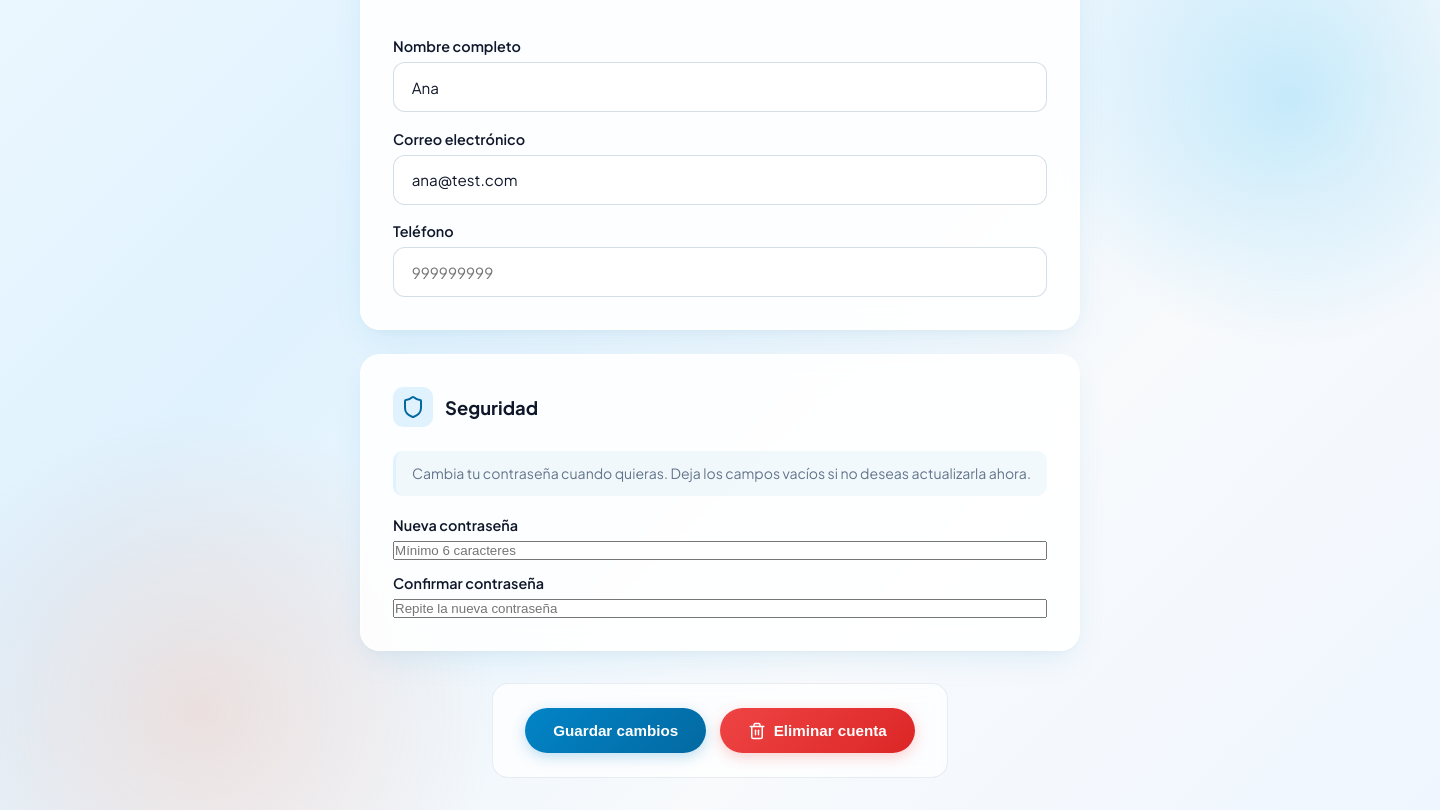
Scenario: Pruebas básicas de componentes › muestra un mensaje cuando las contraseñas no coinciden
(page scrolled)
Type "123456" into the password field labelled "Nueva contraseña" at (720, 551), box [393,541,1047,560]
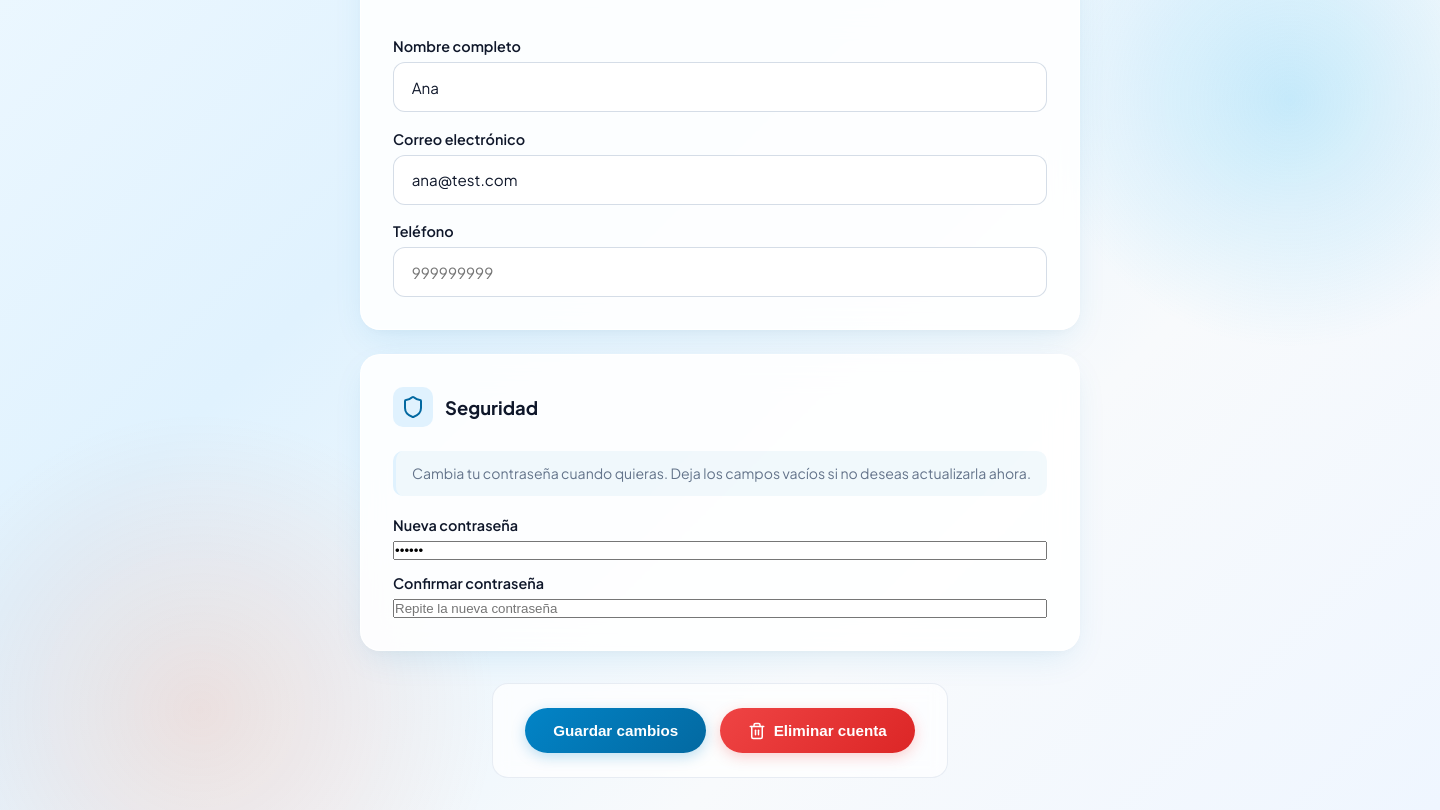
Type "654321" into the password field labelled "Confirmar contraseña" at (720, 609), box [393,599,1047,618]
(page scrolled)
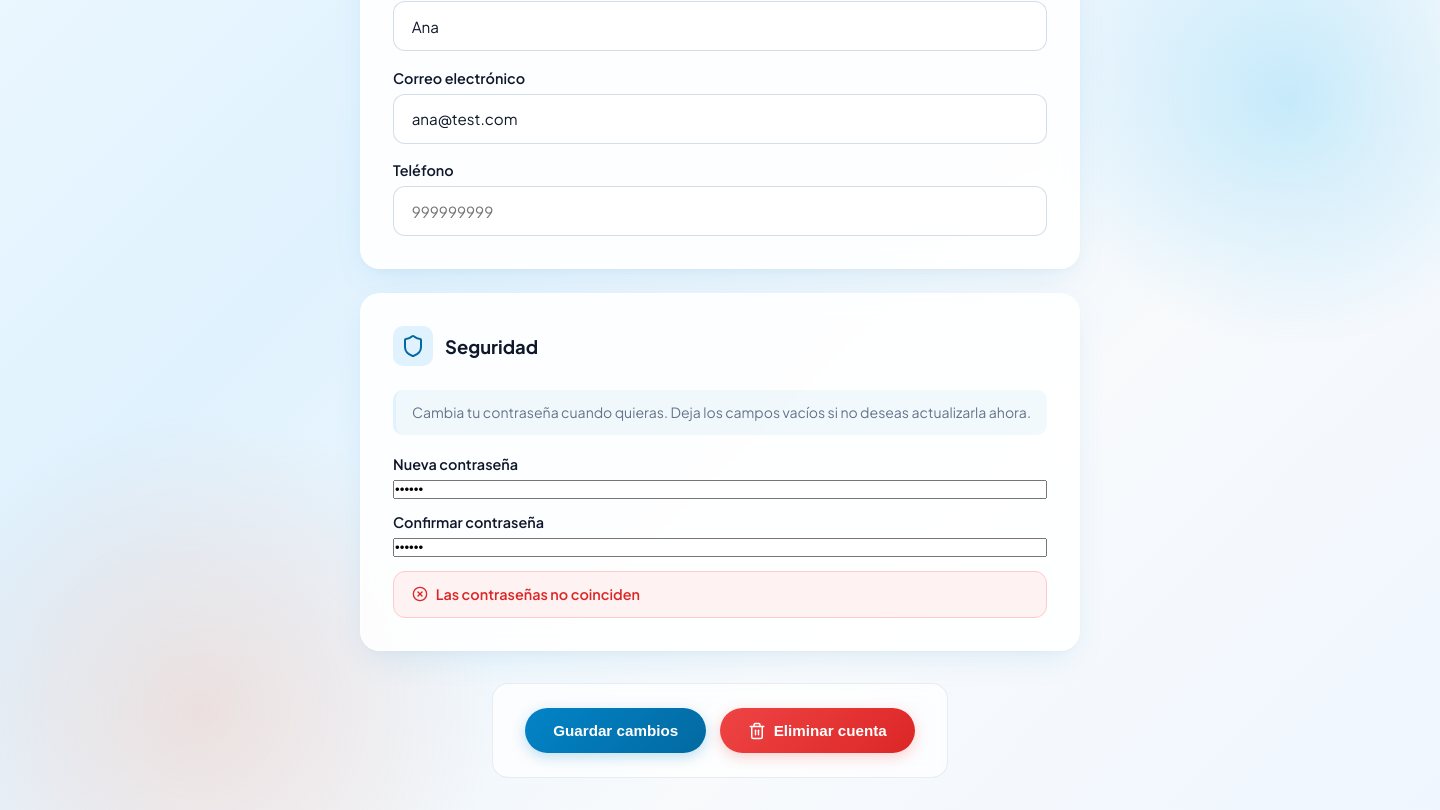
Click the button "Guardar cambios" at (616, 731), box [525,708,706,753]
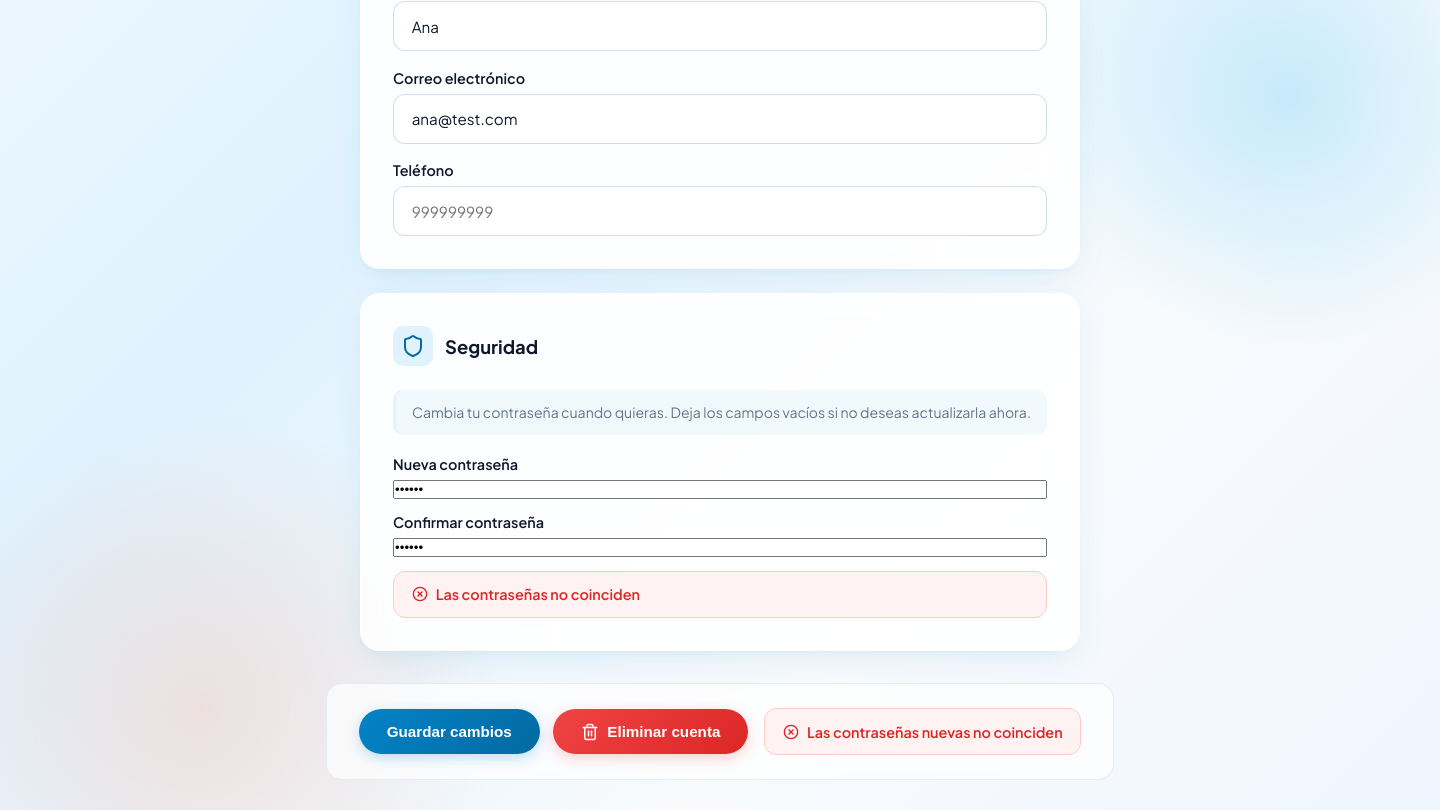
Now the text "Las contraseñas nuevas no coinciden" is shown, box [764,708,1081,755]
